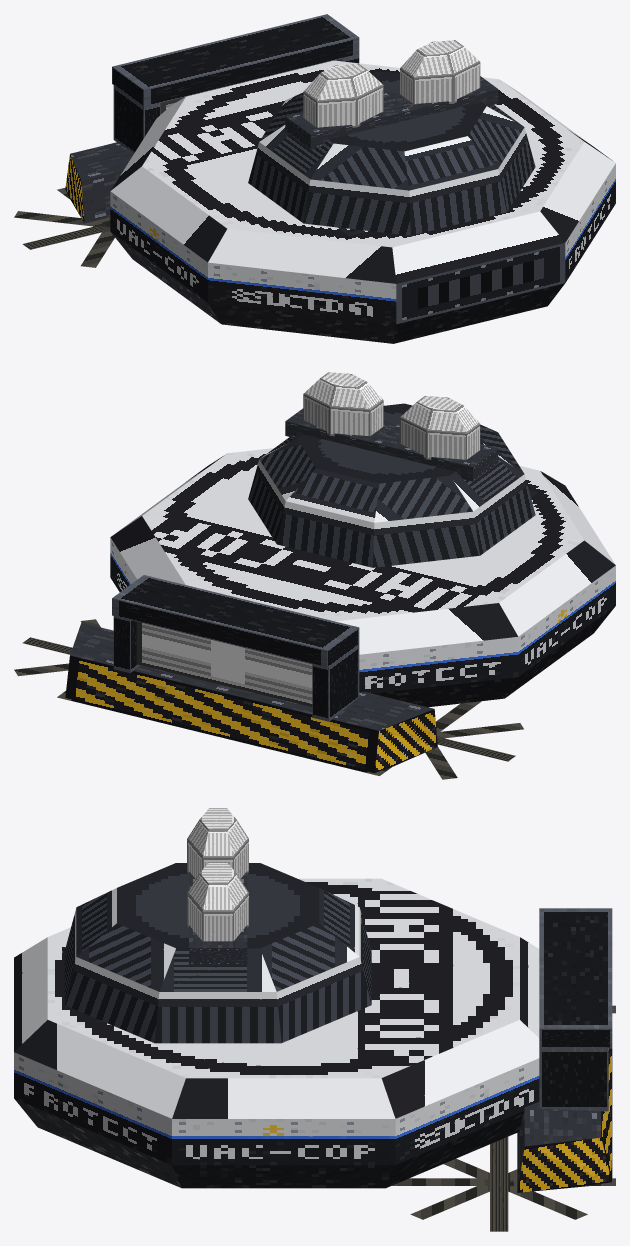
File: roomba.glb
3 views of the same model, one above another, from view 1: azimuth 30°, elevation 25°; view 2: azimuth 150°, elevation 25°; view 3: azimuth 270°, elevation 25° (orthographic). The views are drawn at different scales.
Parts seen in each view (by area): view 1: Body, Cap, SirenRed, SirenBlue, Bumper, Brush; view 2: Body, Cap, Bumper, Eye, SirenRed, SirenBlue, Brush, Brush2; view 3: Body, Cap, Bumper, Brush2, SirenBlue, SirenRed.
Boxes of the visible parts, bbox=[...] form: Body: bbox=[110, 14, 615, 343]; Cap: bbox=[248, 71, 535, 235]; SirenRed: bbox=[303, 63, 383, 127]; SirenBlue: bbox=[400, 40, 480, 103]; Bumper: bbox=[65, 142, 133, 223]; Brush: bbox=[14, 187, 114, 267]; Body: bbox=[110, 448, 615, 721]; Cap: bbox=[248, 403, 535, 567]; Bumper: bbox=[65, 622, 437, 773]; Eye: bbox=[136, 621, 312, 706]; SirenRed: bbox=[400, 396, 480, 459]; SirenBlue: bbox=[303, 372, 383, 436]; Brush: bbox=[366, 701, 523, 779]; Brush2: bbox=[14, 619, 100, 700]; Body: bbox=[14, 878, 612, 1188]; Cap: bbox=[64, 863, 371, 1043]; Bumper: bbox=[517, 1048, 612, 1192]; Brush2: bbox=[392, 1137, 615, 1231]; SirenBlue: bbox=[187, 862, 248, 941]; SirenRed: bbox=[187, 808, 248, 878].
Bounding box in the file's own units: 1.1 × 0.475 × 1.03.
Materials: 1 (1 with a texture image).
